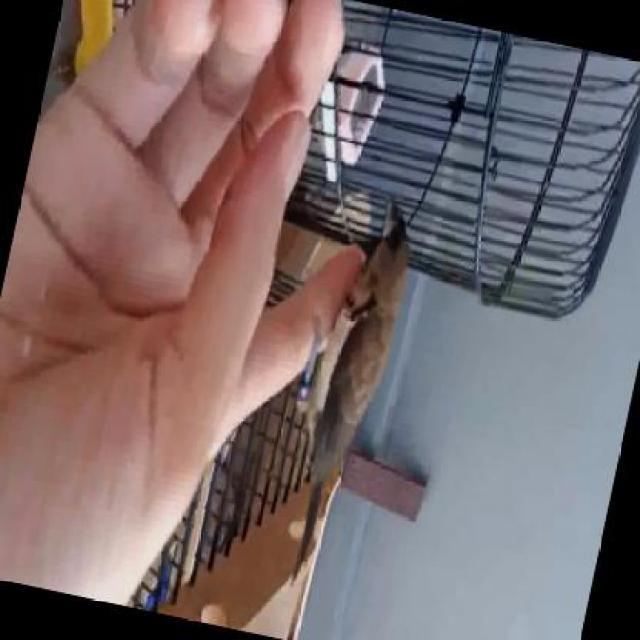Bird: (312, 175, 433, 560)
